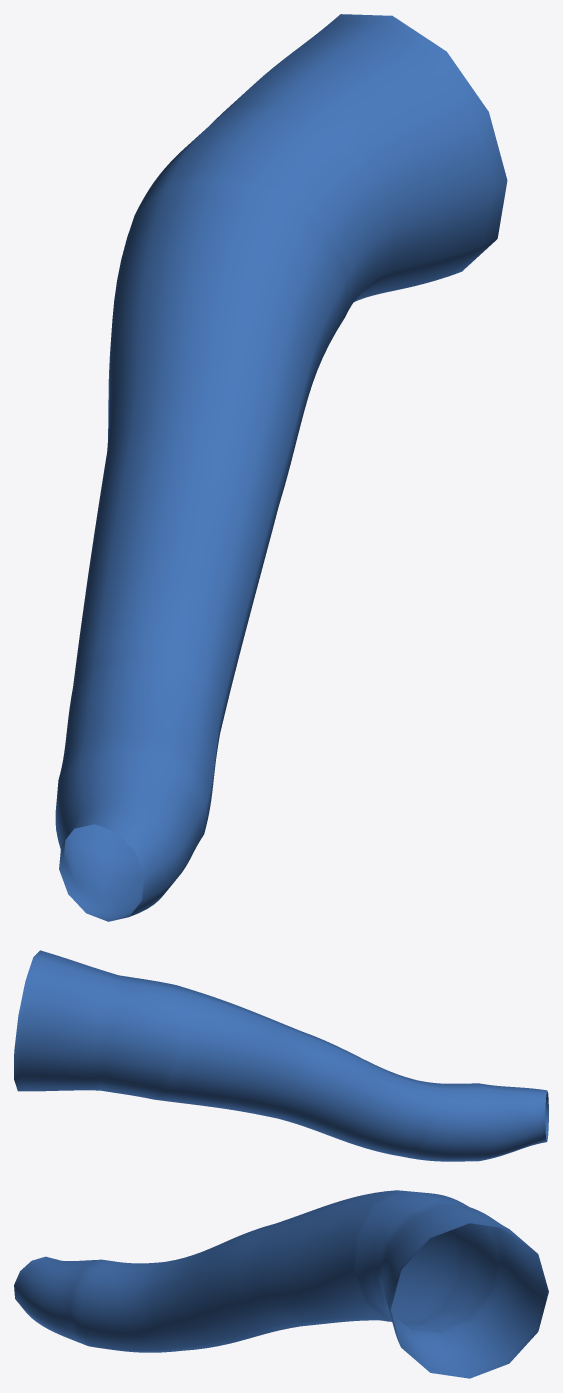
3 renders of one model, top to bottom at view 1: azimuth 30°, elevation 25°; view 2: azimuth 150°, elevation 25°; view 3: azimuth 270°, elevation 25°, orthographic. The views are drawn at different scales.
Parts seen in each view (by area): view 1: 右肺上静脉; view 2: 右肺上静脉; view 3: 右肺上静脉.
Boxes of the visible parts, x1=… form: 右肺上静脉: x1=55, y1=14, x2=507, y2=921; 右肺上静脉: x1=14, y1=950, x2=548, y2=1161; 右肺上静脉: x1=14, y1=1190, x2=548, y2=1378.
Size of the model in its own units: 0.0475 by 0.0306 by 0.0521.
